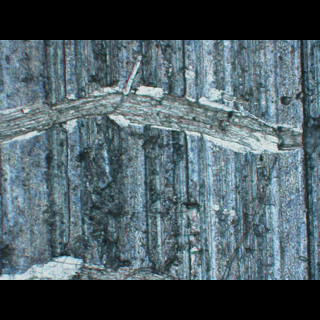d: (105, 93, 320, 156), (0, 235, 186, 279), (1, 90, 121, 147)
